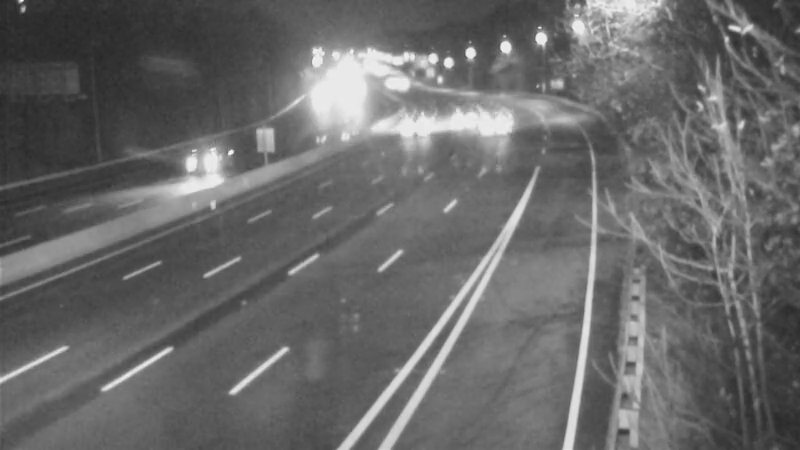vehicle: (162, 122, 242, 202), (468, 100, 518, 150), (430, 92, 480, 142), (382, 94, 432, 144)
